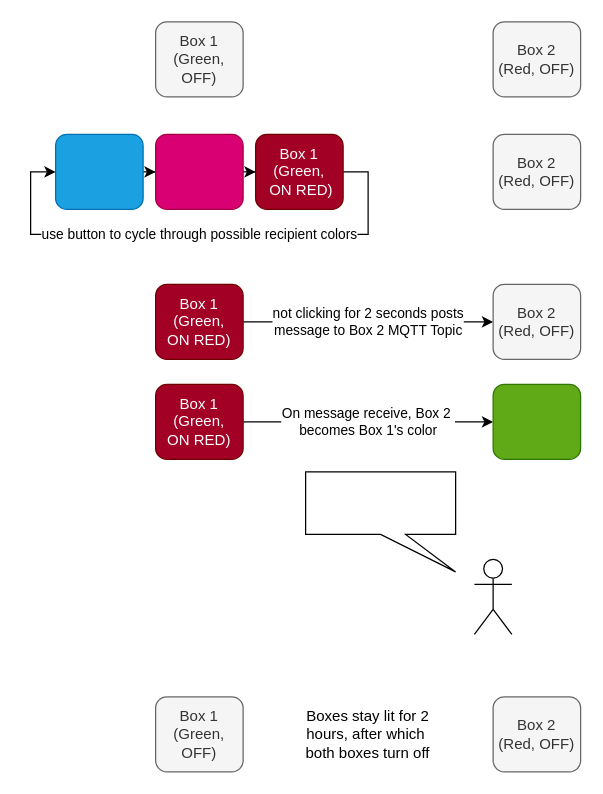
The diagram is 603 pixels wide and 794 high, and some of its shapes have lost their labels. The centre of each missing label's shape, as x and y in pixels:
"Box 1 (Green, ON BLUE)" goes at (98,171).
"Box 1 (Green, ON PINK)" goes at (198,171).
"Box 2 (Red, GREEN ON)" goes at (536,421).
"Box 2 Owner" goes at (492,596).
"Yay! Box 1 Owner is thinking about me right now!" goes at (380,521).
